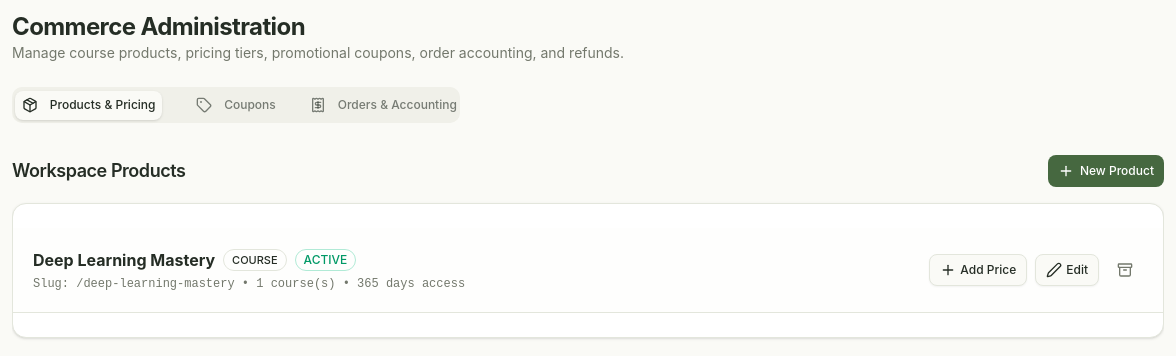
Test: AdminCommercePage › navigates to coupons tab and displays coupons
The width and height of the screenshot is (1176, 356).
Click the tab "Coupons". click: (236, 105)
box: [162,90,310,120]
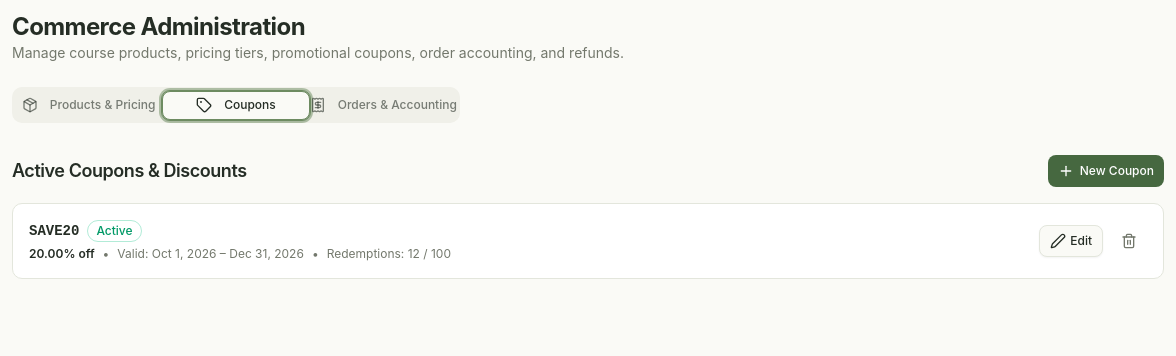
Now the text "SAVE20" is shown, box [29,221,79,241]
Now the text "20.00% off" is shown, box [29,246,95,261]
